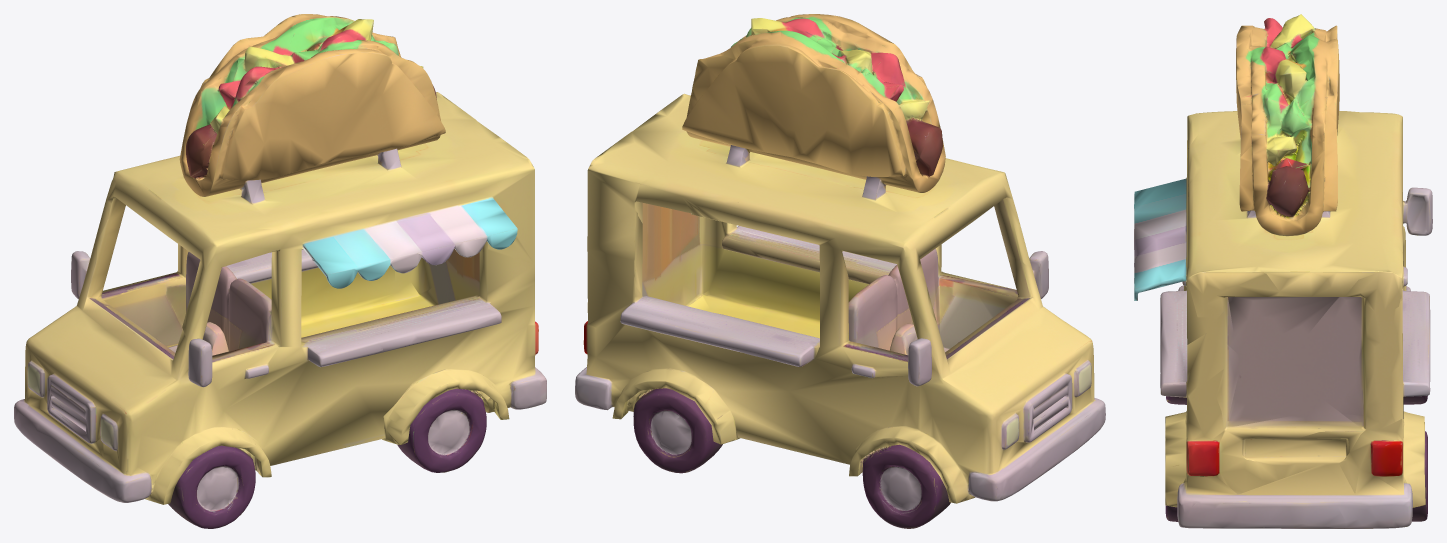
Rendered from 8dee24fe-6070-4c22-9b96-64f0e2bf5c44.glb.
The picture shows the model from 3 angles, left to right: view 1: azimuth 30°, elevation 25°; view 2: azimuth 150°, elevation 25°; view 3: azimuth 270°, elevation 25°; orthographic projection. The views are drawn at different scales.
Parts seen in each view (by area): view 1: Mesh_0; view 2: Mesh_0; view 3: Mesh_0.
Part boxes in pixels (x1,y1,x2,y2): Mesh_0: (14,14,546,528); Mesh_0: (575,14,1105,528); Mesh_0: (1134,14,1432,528).
Size of the model in its own units: 1.9 by 1.76 by 1.08.
Materials: 1 (1 with a texture image).
